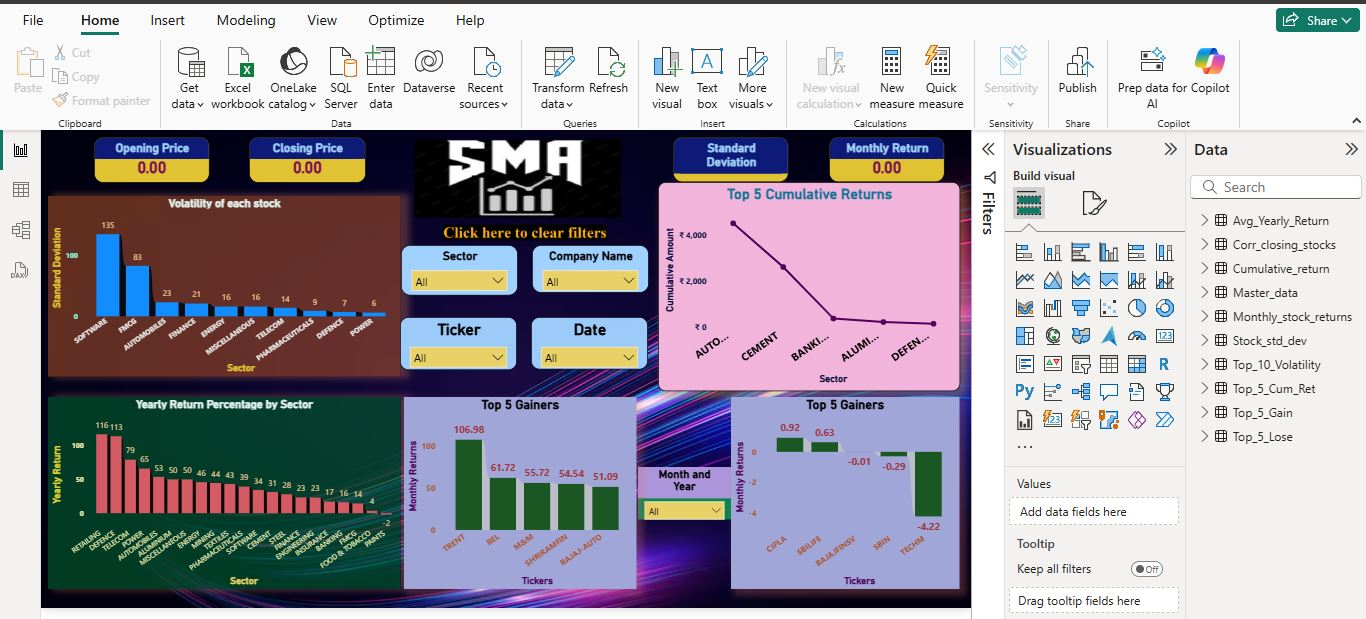

The dashboard page shown, as its layout file describes it:
{"tool":"powerbi","page":{"name":"Page 1","canvas":[1400,720],"ordinal":0},"visuals":[{"type":"columnChart","title":"Volatility of each stock","fields":{"Y":["Sum(Top_10_Volatility.Volatility)"],"Category":["Top_10_Volatility.Sector"]},"box":[9.9,99.2,531.5,272.1],"z":0},{"type":"slicer","title":"Ticker","fields":{"Values":["Cumulative_return.Ticker"]},"box":[540.8,281.4,175.7,80],"z":1000},{"type":"slicer","title":"Company Name","fields":{"Values":["Cumulative_return.Ticker"]},"box":[738.7,173,175.9,71.5],"z":2000},{"type":"card","title":"Opening Price","fields":{"Values":["Master_data.Opening_Price"]},"box":[80,10,174.3,68.6],"z":4000},{"type":"card","title":"Standard Deviation","fields":{"Values":["Master_data.Std_dev_Avg"]},"box":[951,9.9,174.3,68],"z":5000},{"type":"slicer","title":"Sector","fields":{"Values":["Master_data.Sector"]},"box":[541.3,173,175.9,75.8],"z":6000},{"type":"lineChart","title":"Top 5 Cumulative Returns","fields":{"Category":["Top_5_Cum_Ret.Sector"],"Y":["Sum(Top_5_Cum_Ret.Cum_Return)"]},"box":[928.3,78,455,314.6],"z":7000},{"type":"card","title":"Closing Price","fields":{"Values":["Master_data.Close_Price"]},"box":[312.9,10,175.7,68.6],"z":8000},{"type":"card","title":"Monthly Return","fields":{"Values":["Master_data.Monthly_ret"]},"box":[1186.3,9.9,174.3,68],"z":9000},{"type":"slicer","title":"Date","fields":{"Values":["Master_data.date.Variation.Date Hierarchy.Year"]},"box":[737.9,281.4,175.7,78.6],"z":10000},{"type":"columnChart","title":"Yearly Return Percentage by Sector","fields":{"Category":["Avg_Yearly_Return.Sector"],"Y":["Sum(Avg_Yearly_Return.Yearly_Return_Percentage)"]},"box":[9.9,402.5,531.5,289.1],"z":11000},{"type":"slicer","title":"Month and Year","fields":{"Values":["Top_5_Gain.month"]},"box":[898.6,507.4,140.3,79.4],"z":12000},{"type":"columnChart","title":"Top 5 Gainers","fields":{"Y":["Sum(Top_5_Gain&Lose.Month_Return)"],"Category":["Top_5_Gain&Lose.Ticker"]},"box":[547.1,402.5,350.1,289.1],"z":13000},{"type":"columnChart","title":"Top 5 Gainers","fields":{"Y":["Sum(Top_5_Lose.Count)"],"Category":["Top_5_Lose.Ticker"]},"box":[1038.9,402.5,344.4,289.1],"z":14000},{"type":"image","box":[541.4,137.5,372.8,34],"z":14002},{"type":"image","box":[556.9,9.4,320.7,128.3],"z":14003}]}

Visuals, with their boxes on the page's 1400x720 design canvas (x1, y1, x2, y2). These are canvas units, not pixel positions in the 1366x619 screenshot, which may show the page scaled, cropped or inside an application window:
"Volatility of each stock" columnChart: crop(10, 99, 541, 371)
"Ticker" slicer: crop(541, 281, 716, 361)
"Company Name" slicer: crop(739, 173, 915, 244)
"Opening Price" card: crop(80, 10, 254, 79)
"Standard Deviation" card: crop(951, 10, 1125, 78)
"Sector" slicer: crop(541, 173, 717, 249)
"Top 5 Cumulative Returns" lineChart: crop(928, 78, 1383, 393)
"Closing Price" card: crop(313, 10, 489, 79)
"Monthly Return" card: crop(1186, 10, 1361, 78)
"Date" slicer: crop(738, 281, 914, 360)
"Yearly Return Percentage by Sector" columnChart: crop(10, 402, 541, 692)
"Month and Year" slicer: crop(899, 507, 1039, 587)
"Top 5 Gainers" columnChart: crop(547, 402, 897, 692)
"Top 5 Gainers" columnChart: crop(1039, 402, 1383, 692)
image: crop(541, 138, 914, 172)
image: crop(557, 9, 878, 138)
